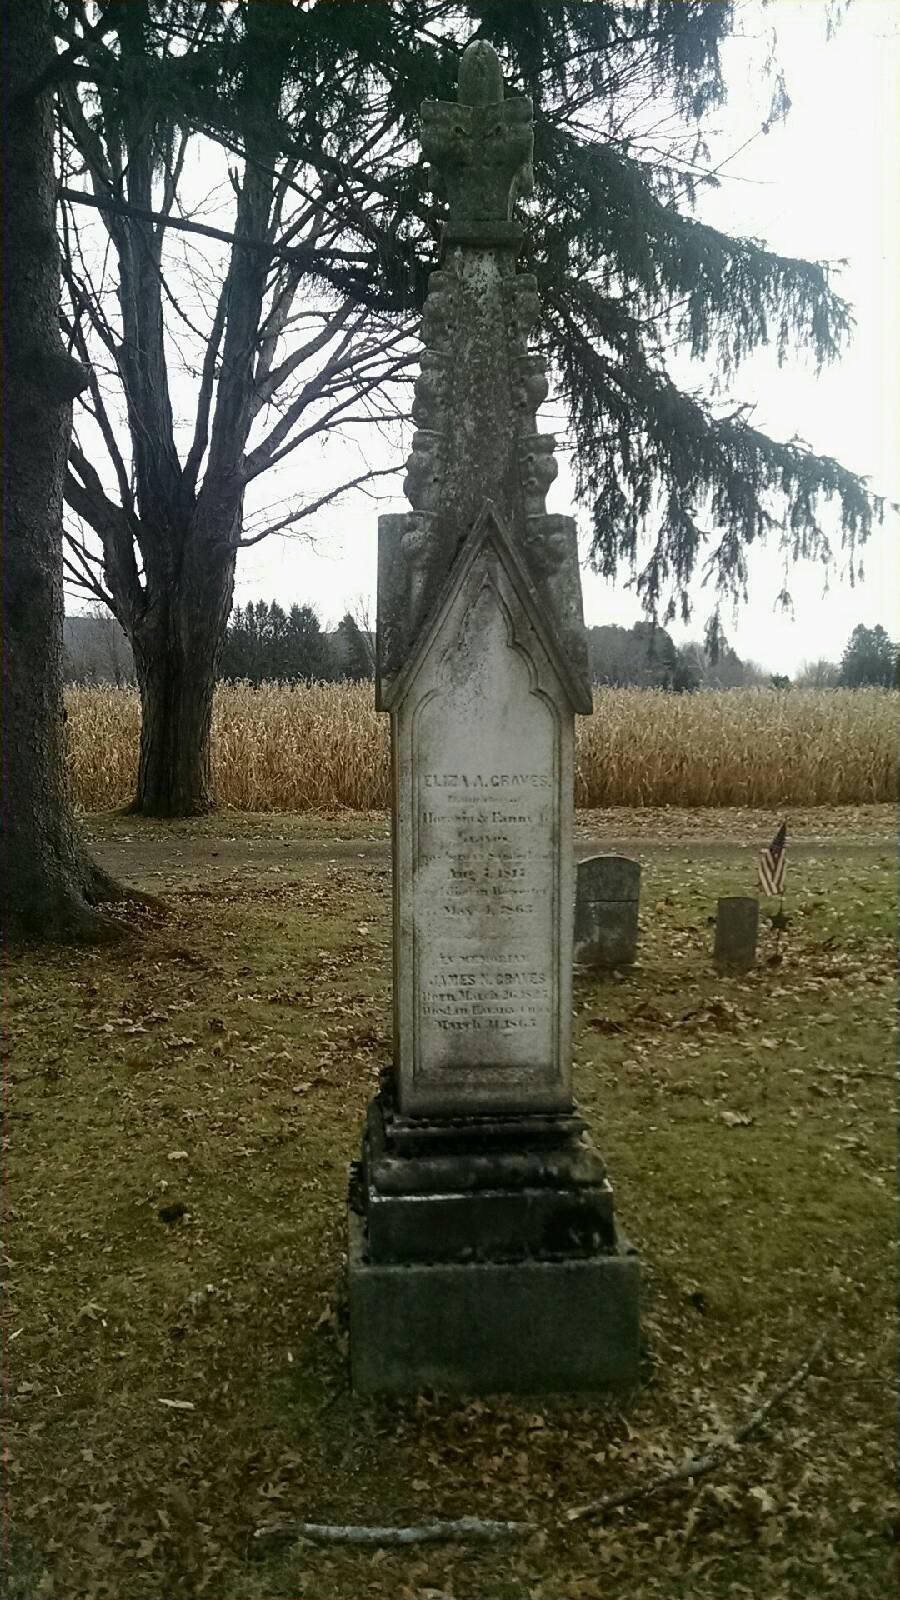obelisk: (379, 54, 584, 1176)
